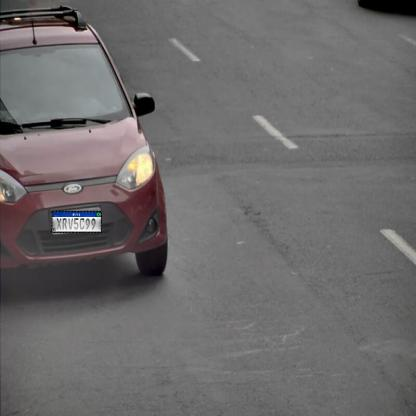PlacaM: (51, 211, 102, 233)
